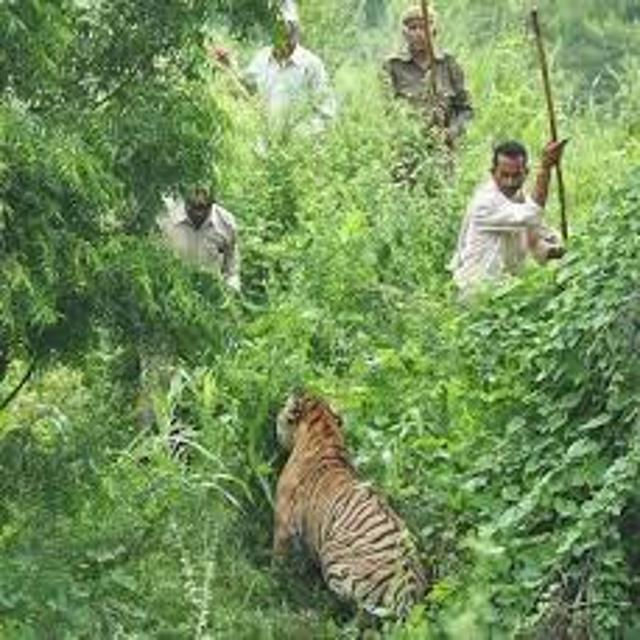poacher: (152, 1, 365, 219), (88, 123, 259, 329), (425, 120, 588, 329), (336, 1, 496, 191)
tiger: (237, 366, 460, 632)
